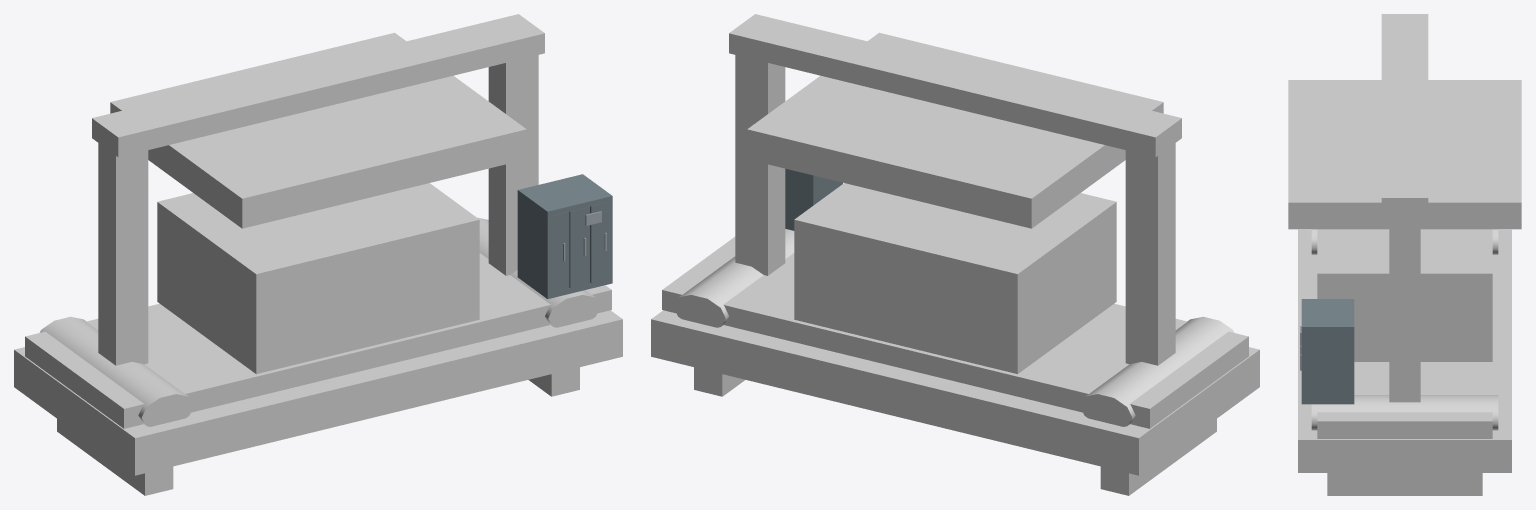
3 views of the same model, side by side, from view 1: azimuth 30°, elevation 25°; view 2: azimuth 150°, elevation 25°; view 3: azimuth 270°, elevation 25° (orthographic). The views are drawn at different scales.
Parts seen in each view (by area): view 1: package_11, folding_frame_12, conveyor_frame_2, belt_1, crossbeam_10, column_8, column_9, roller_3, g0.003, g0.010, roller_5, support_4 (+4 smaller); view 2: package_11, folding_frame_12, conveyor_frame_2, belt_1, crossbeam_10, column_8, column_9, roller_3, roller_5, support_4, g0.009, support_6; view 3: folding_frame_12, package_11, conveyor_frame_2, crossbeam_10, belt_1, column_9, g0.006, support_6, roller_5, g0.010, g0.009, roller_3 (+1 smaller).
Boxes of the visible parts, x1,y1,x2,y2 form: package_11: [157, 183, 479, 374]; folding_frame_12: [110, 32, 526, 228]; conveyor_frame_2: [14, 310, 622, 475]; belt_1: [25, 253, 611, 428]; crossbeam_10: [92, 14, 544, 157]; column_8: [98, 143, 148, 365]; column_9: [488, 55, 538, 275]; roller_3: [39, 316, 194, 426]; g0.003: [518, 189, 550, 293]; g0.010: [518, 176, 609, 216]; roller_5: [477, 217, 600, 327]; support_4: [57, 419, 173, 495]; package_11: [794, 183, 1116, 374]; folding_frame_12: [747, 32, 1163, 228]; conveyor_frame_2: [651, 310, 1259, 475]; belt_1: [662, 236, 1248, 428]; crossbeam_10: [729, 14, 1181, 157]; column_8: [1125, 143, 1175, 365]; column_9: [735, 55, 785, 275]; roller_3: [1079, 316, 1234, 426]; roller_5: [673, 229, 794, 327]; support_4: [1100, 419, 1216, 495]; g0.009: [785, 168, 814, 225]; support_6: [694, 367, 745, 396]; folding_frame_12: [1288, 80, 1521, 229]; package_11: [1317, 229, 1492, 361]; conveyor_frame_2: [1298, 229, 1511, 472]; crossbeam_10: [1381, 14, 1428, 215]; belt_1: [1317, 362, 1492, 438]; column_9: [1389, 215, 1420, 402]; g0.006: [1301, 325, 1351, 399]; support_6: [1327, 473, 1482, 495]; roller_5: [1311, 395, 1498, 430]; g0.010: [1301, 300, 1354, 331]; g0.009: [1351, 300, 1354, 404]; roller_3: [1311, 229, 1498, 254].
Bounding box in the file's own units: 3.2 × 2.1 × 1.5.
